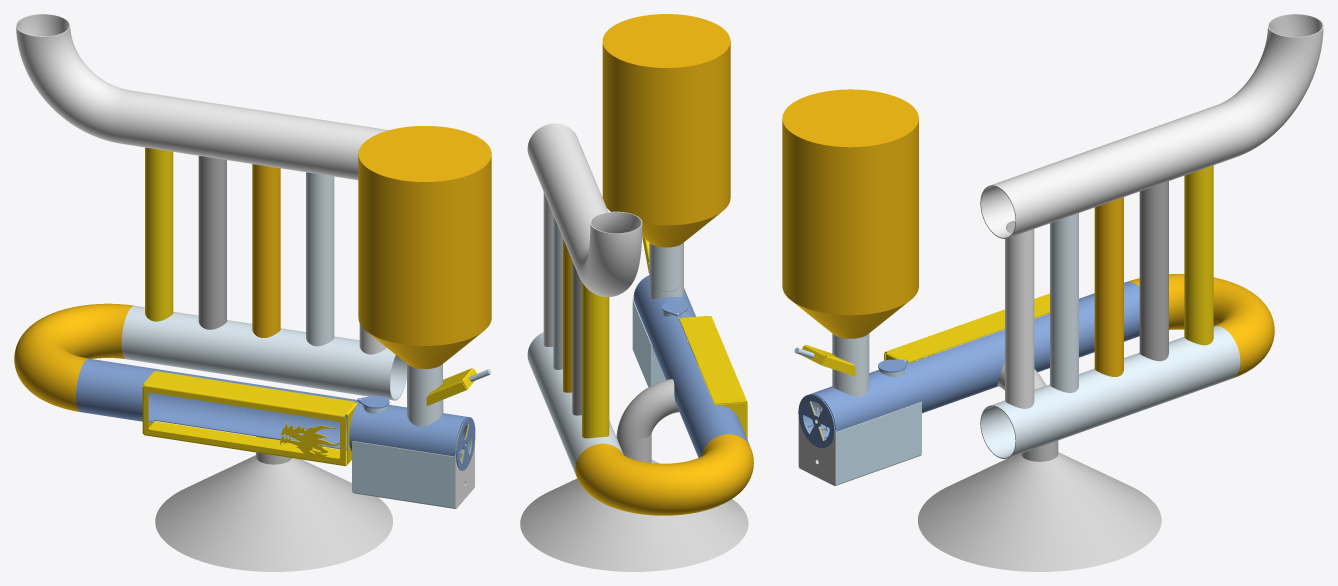
The model's file is Asse-v2.glb.
The picture shows the model from 3 angles, left to right: view 1: azimuth 30°, elevation 25°; view 2: azimuth 150°, elevation 25°; view 3: azimuth 270°, elevation 25°; orthographic projection. The views are drawn at different scales.
Parts seen in each view (by area): view 1: depo, Part 30, Part 1, Part 29, Part 4, cam, Part 31, sagdÄ±s, egzoz4, egzoz5, egzoz2, egzoz3 (+4 smaller); view 2: depo, Part 1, Part 30, Part 31, Part 4, egzoz5, Part 29, cam, Part 3, depoBoru, egzoz1, egzoz4 (+4 smaller); view 3: depo, Part 30, Part 1, Part 29, Part 4, egzoz1, egzoz5, egzoz4, egzoz3, egzoz2, sagdÄ±s, Part 31 (+5 smaller).
Boxes of the visible parts, x1,y1,x2,y2 form: depo: (358,126,491,368); Part 30: (16,14,388,180); Part 1: (155,455,392,571); Part 29: (121,305,406,400); Part 4: (76,358,471,456); cam: (142,371,357,466); Part 31: (14,303,133,411); sagdÄ±s: (352,441,454,508); egzoz4: (198,156,226,329); egzoz5: (145,147,173,321); egzoz2: (306,172,334,346); egzoz3: (252,164,280,337); depo: (602,14,730,247); Part 1: (520,460,748,571); Part 30: (527,123,642,296); Part 31: (575,434,753,515); Part 4: (634,276,749,457); egzoz5: (582,282,609,438); Part 29: (527,332,623,474); cam: (679,316,747,439); Part 3: (616,379,679,449); depoBoru: (649,242,683,298); egzoz1: (543,192,553,346); egzoz4: (572,261,581,415); depo: (782,89,918,338); Part 30: (980,14,1323,238); Part 1: (918,452,1161,571); Part 29: (980,326,1240,458); Part 4: (804,281,1139,431); egzoz1: (1005,220,1034,408); egzoz5: (1184,165,1213,345); egzoz4: (1139,181,1168,361); egzoz3: (1094,197,1123,376); egzoz2: (1050,213,1078,392); sagdÄ±s: (836,401,921,485); Part 31: (1127,274,1274,378).
Bounding box in the file's own units: 0.7336 × 0.9989 × 1.11.
